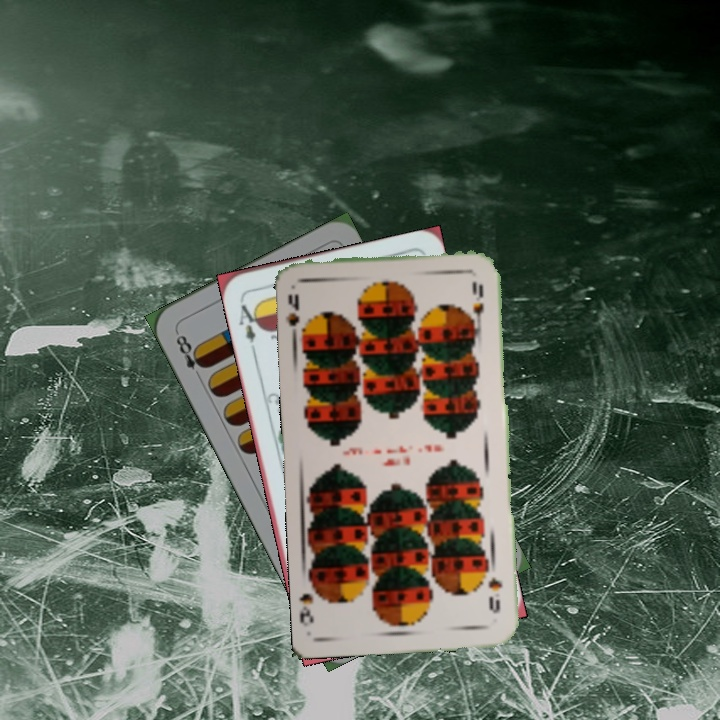E8: (171, 327, 209, 382)
EA: (234, 300, 263, 353)
S9: (283, 290, 311, 342), (484, 573, 504, 616)
